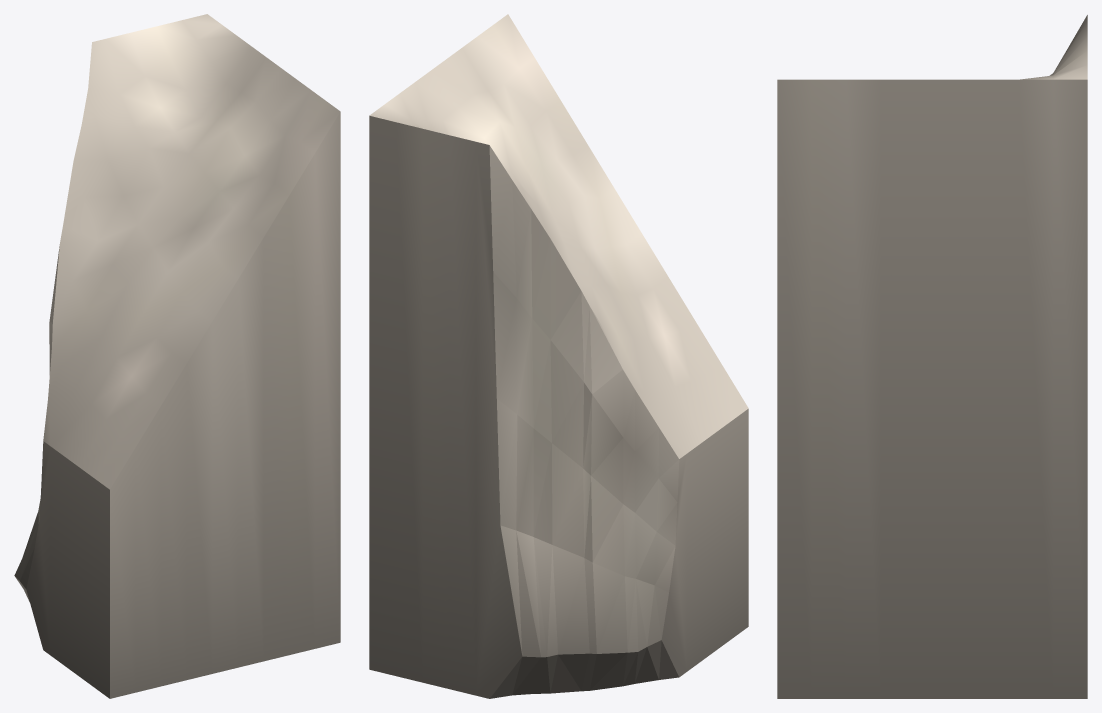
The model's file is SM_VKI_Rock_Cave_CFFO_B.fbx.
The picture shows the model from 3 angles, left to right: view 1: azimuth 30°, elevation 25°; view 2: azimuth 150°, elevation 25°; view 3: azimuth 270°, elevation 25°; orthographic projection. The views are drawn at different scales.
Visible parts, largest first — view 1: SM_VKI_Rock_Cave_CFFO_B.001; view 2: SM_VKI_Rock_Cave_CFFO_B.001; view 3: SM_VKI_Rock_Cave_CFFO_B.001.
Part boxes in pixels (left/top/right/bottom): SM_VKI_Rock_Cave_CFFO_B.001: left=14, top=14, right=340, bottom=698; SM_VKI_Rock_Cave_CFFO_B.001: left=369, top=14, right=748, bottom=698; SM_VKI_Rock_Cave_CFFO_B.001: left=777, top=15, right=1087, bottom=698.
Bounding box in the file's own units: 1.5 × 3.3 × 1.5.
